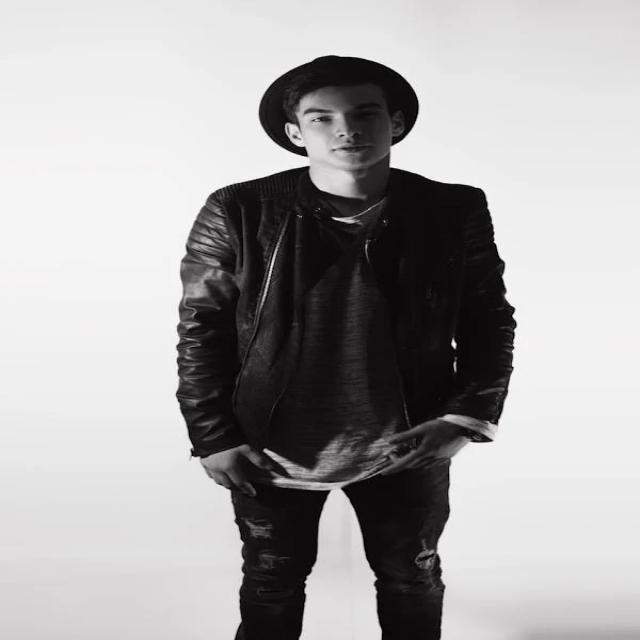Edited images: (143, 36, 528, 640)
